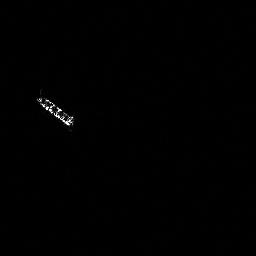ship: (33, 92, 77, 131)
